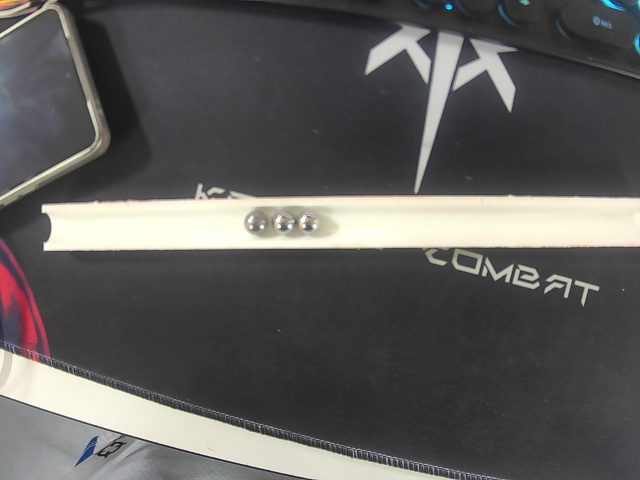steelball: (244, 210, 268, 235), (272, 211, 296, 235), (297, 211, 319, 235)
